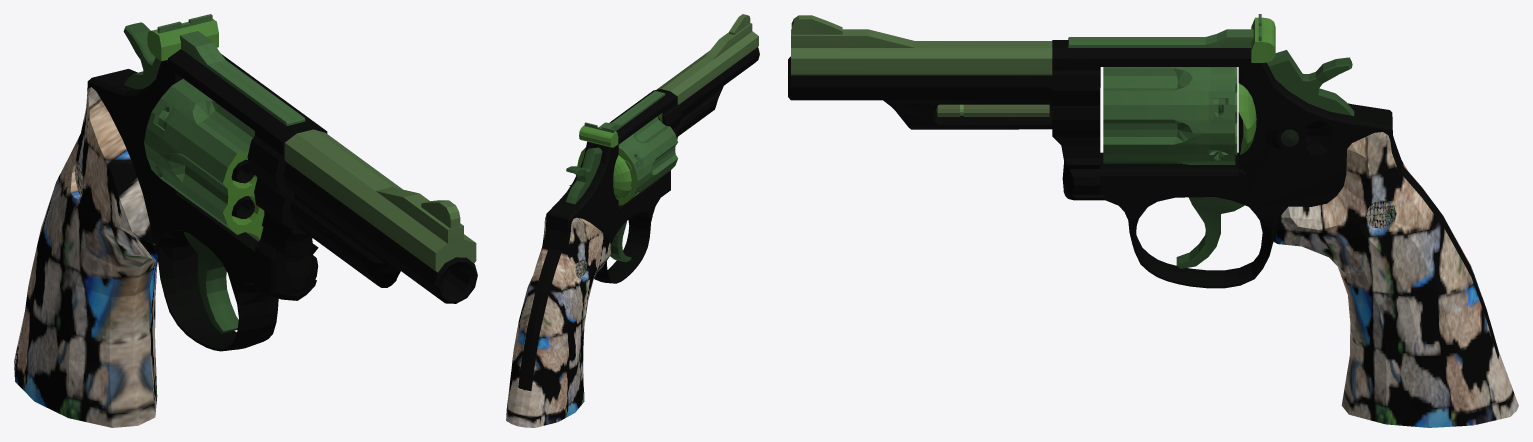
The picture shows the model from 3 angles, left to right: view 1: azimuth 30°, elevation 25°; view 2: azimuth 150°, elevation 25°; view 3: azimuth 270°, elevation 25°; orthographic projection. The views are drawn at different scales.
Bounding box in the file's own units: 0.1519 × 0.5863 × 1.
1 material, 1 textured.
